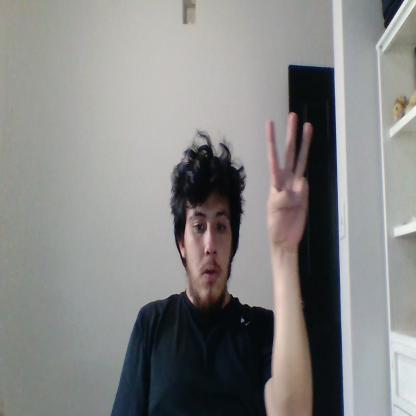W: (268, 112, 312, 243)
